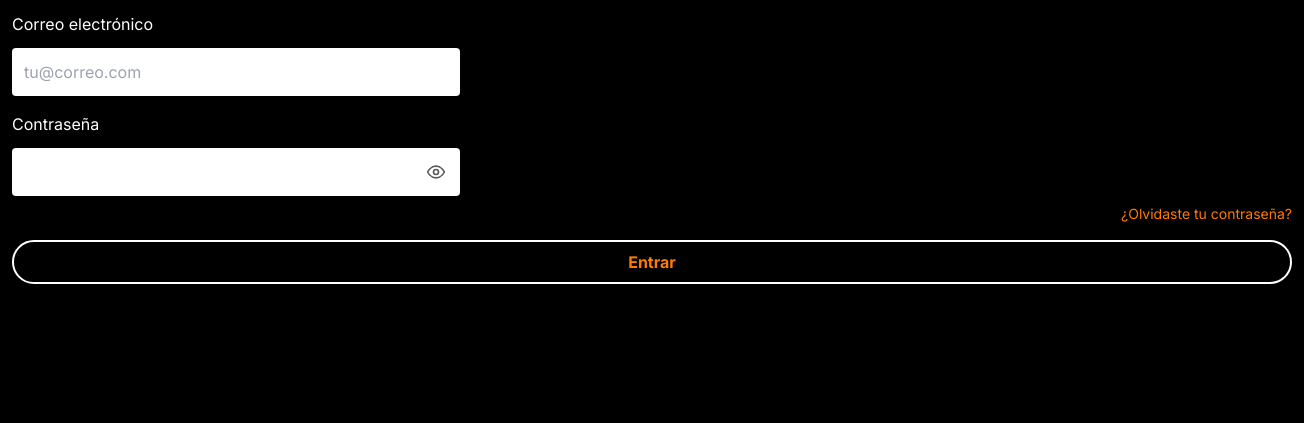
Test: LoginForm › hides the notice when the next attempt fails for another reason
Type "ana@example.com" into the field labelled "Correo electrónico" at [236, 72], box [12,48,460,96]
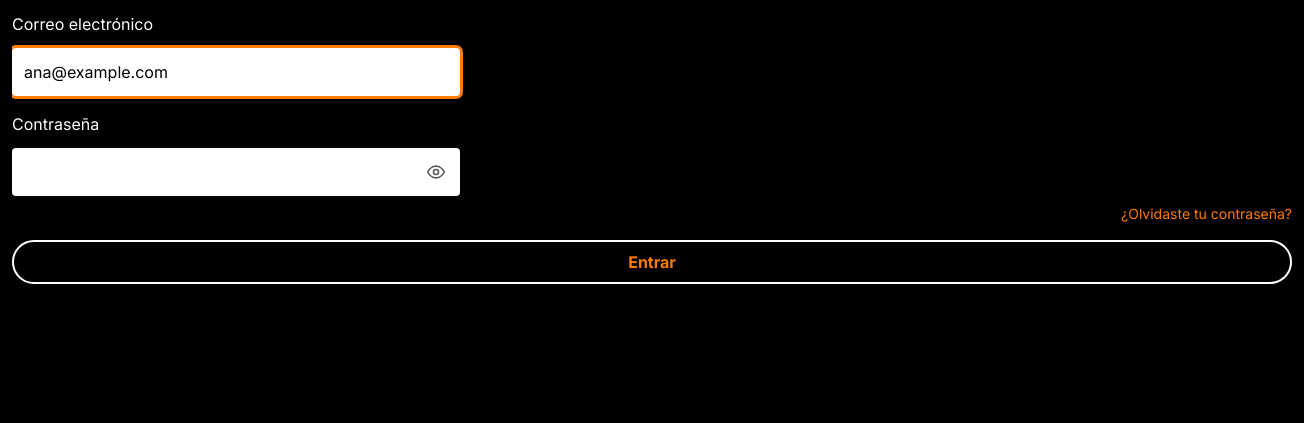
Type "secreta" into the password field labelled "Contraseña" at [236, 172], box [12,148,460,196]
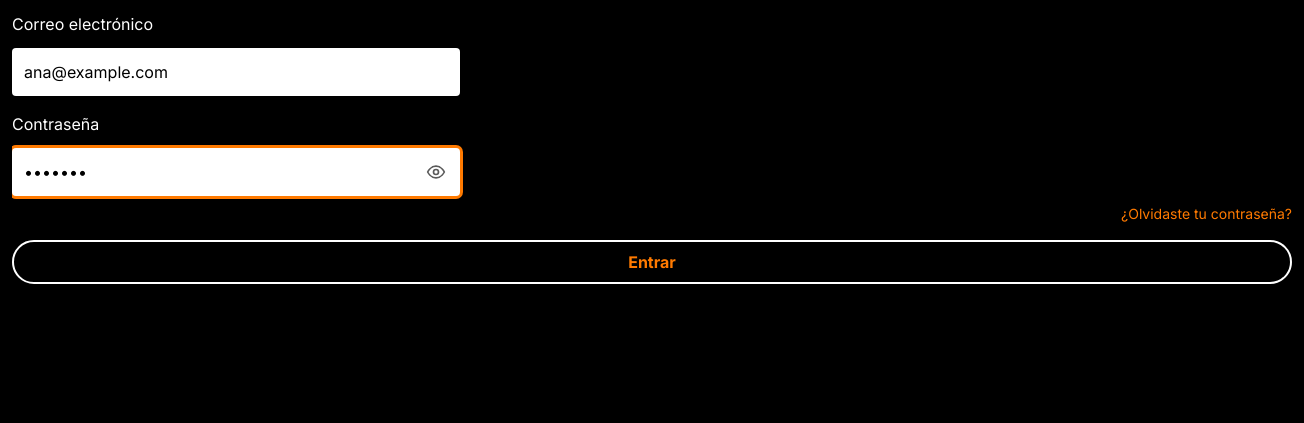
Click the button "Entrar" at [652, 262], box [12,240,1292,284]
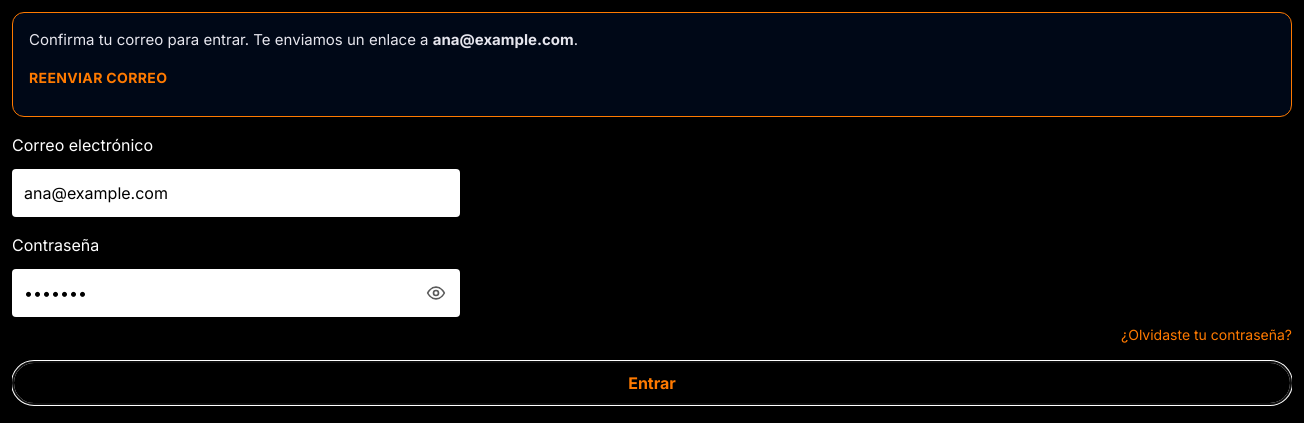
Now the message is shown, box [12,12,1292,116]
Click the button "Entrar" at [652, 382], box [12,360,1292,404]
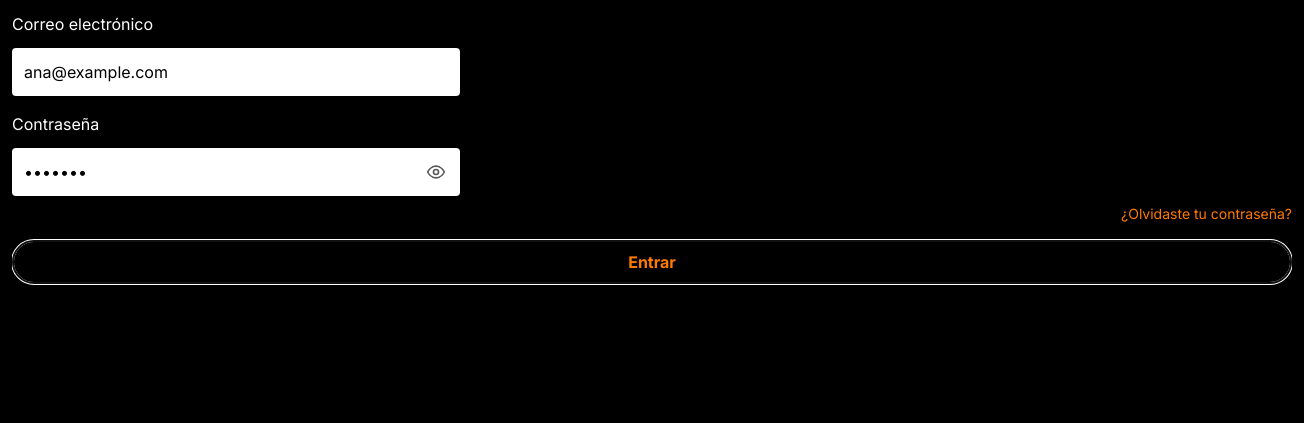
Now the message is gone
